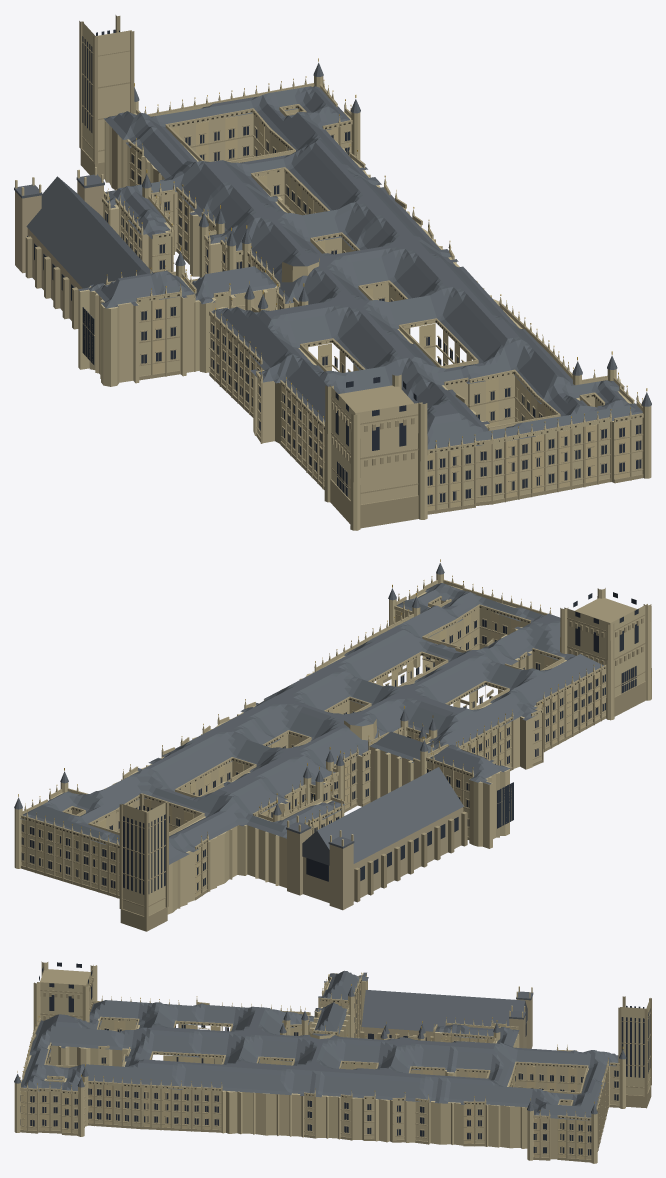
Rendered from westminster-site-b75.glb.
3 renders of one model, top to bottom at view 1: azimuth 30°, elevation 25°; view 2: azimuth 150°, elevation 25°; view 3: azimuth 270°, elevation 25°, orthographic. The views are drawn at different scales.
Bounding box in the file's own units: 151 × 50.06 × 292.
